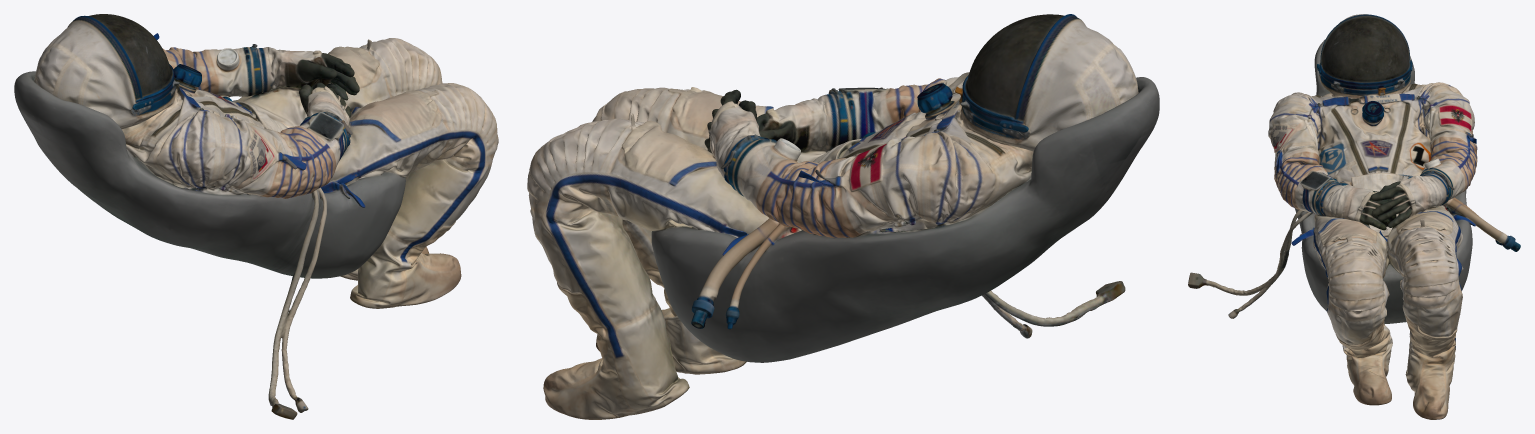
The model's file is franz_viehbocks_sokol_space_suit.glb.
3 views of the same model, side by side, from view 1: azimuth 30°, elevation 25°; view 2: azimuth 150°, elevation 25°; view 3: azimuth 270°, elevation 25° (orthographic). The views are drawn at different scales.
Visible parts, largest first — view 1: Object_2, Object_3; view 2: Object_3, Object_2; view 3: Object_3, Object_2.
Boxes of the visible parts, bbox=[...] form: Object_2: bbox=[26, 29, 498, 419]; Object_3: bbox=[14, 14, 492, 280]; Object_3: bbox=[527, 14, 1159, 419]; Object_2: bbox=[527, 22, 1155, 407]; Object_3: bbox=[1270, 14, 1474, 419]; Object_2: bbox=[1188, 14, 1520, 405].
Size of the model in its own units: 1.69 by 1.28 by 1.42.
1 material, 1 textured.
